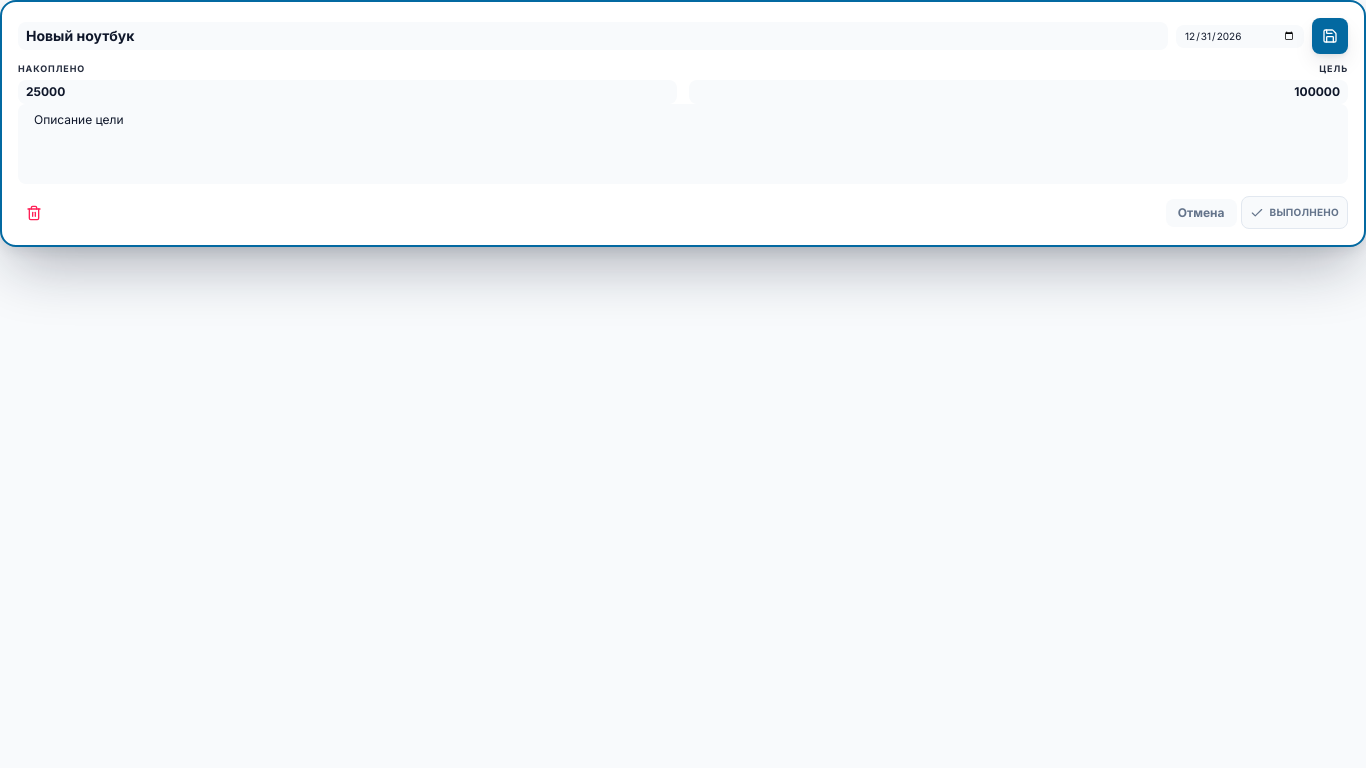
SortableGoalCard › confirms deleting a goal from the modal
Click the button titled "Удалить цель". click: x=34, y=212
box: 18,196 -> 50,228
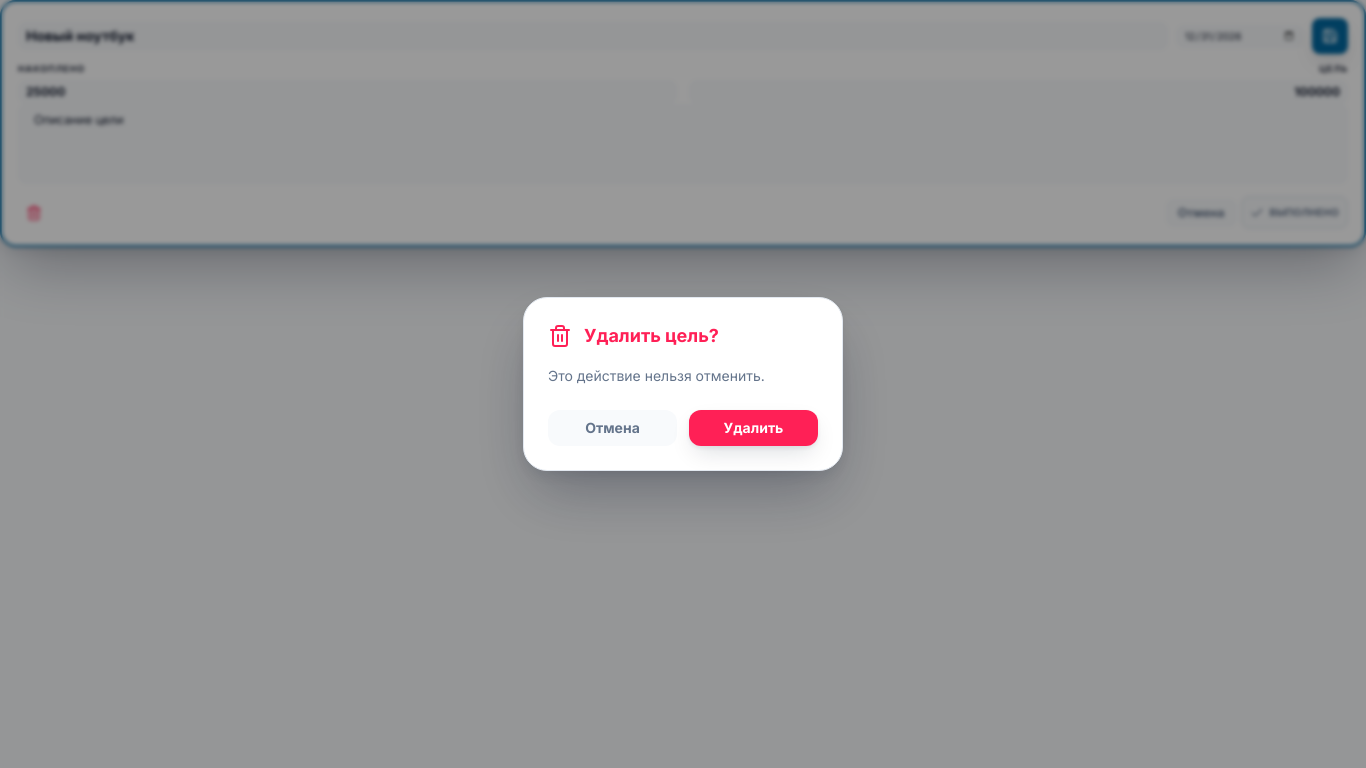
Check: the dialog is shown
Click the button "Удалить". click: x=754, y=428
box: 689,410 -> 818,446
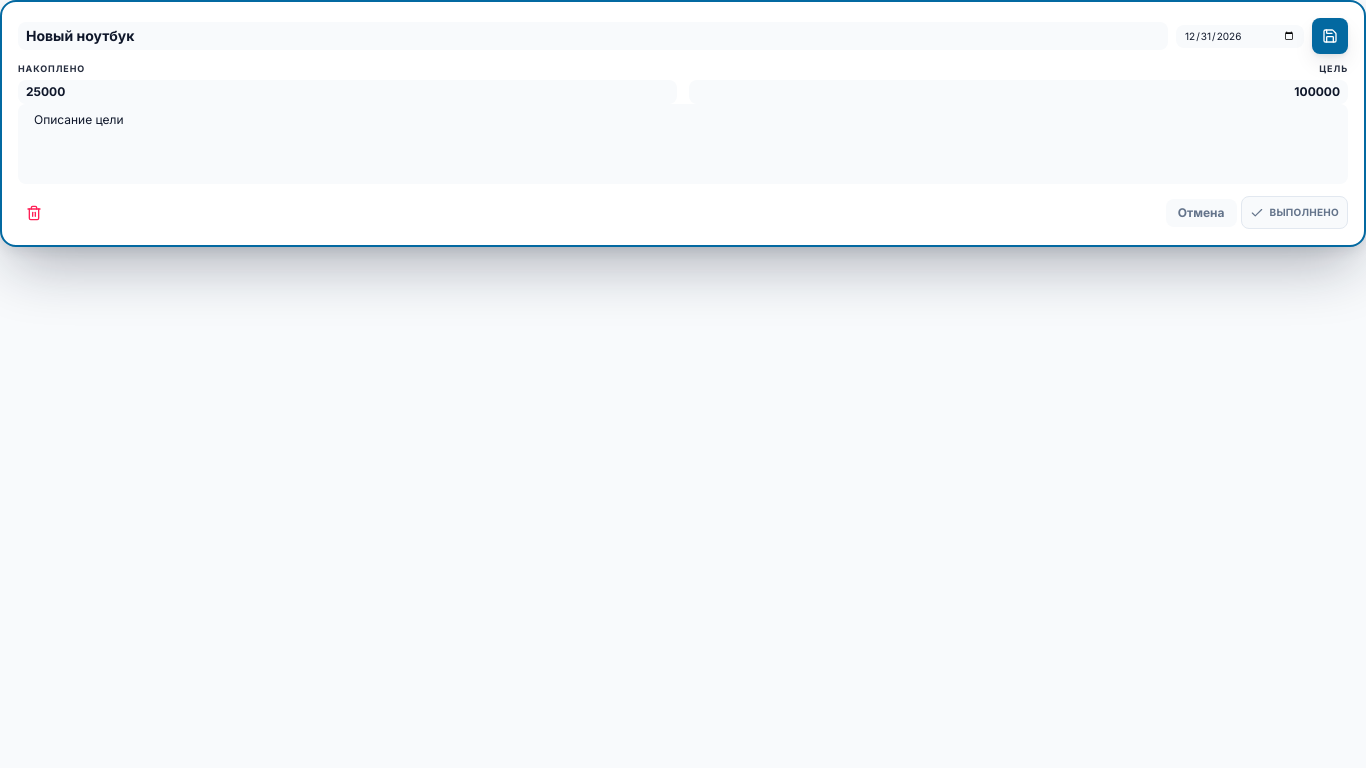
Check: the dialog is gone
